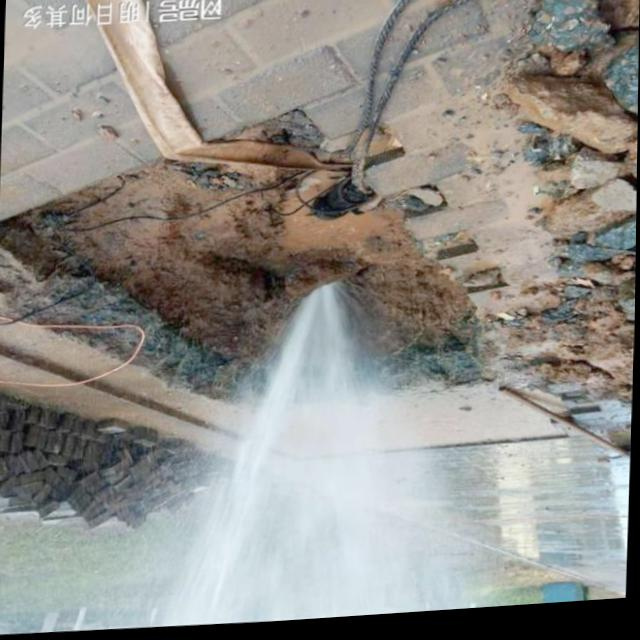leak: (110, 278, 501, 629)
